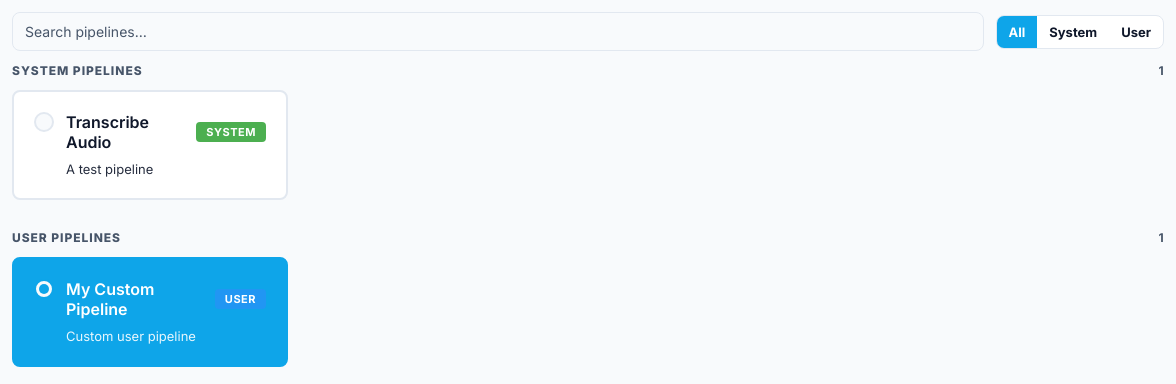
Test: TemplateSelector › shows hidden selection hint when selected template is filtered out
Click the button "System" at x=1073, y=32, box [1037,16,1109,48]
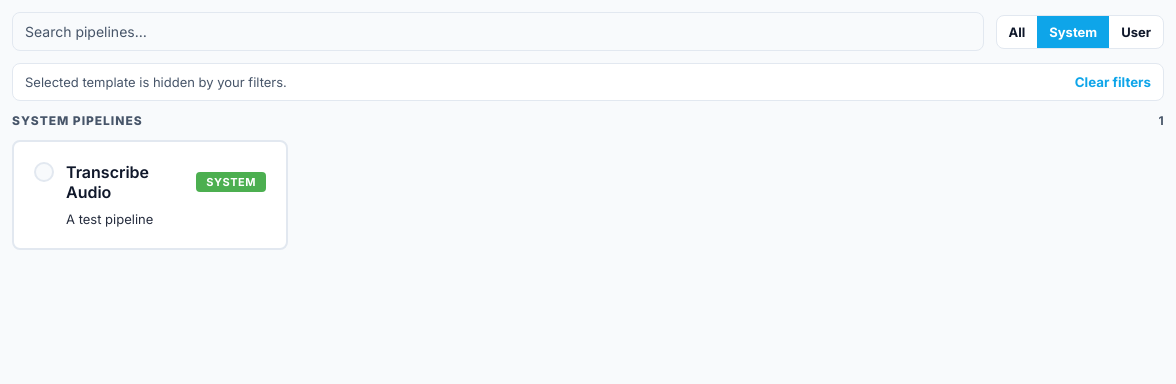
Check: the text "Selected template is hidden by your filters." is shown, box [25,74,287,90]
